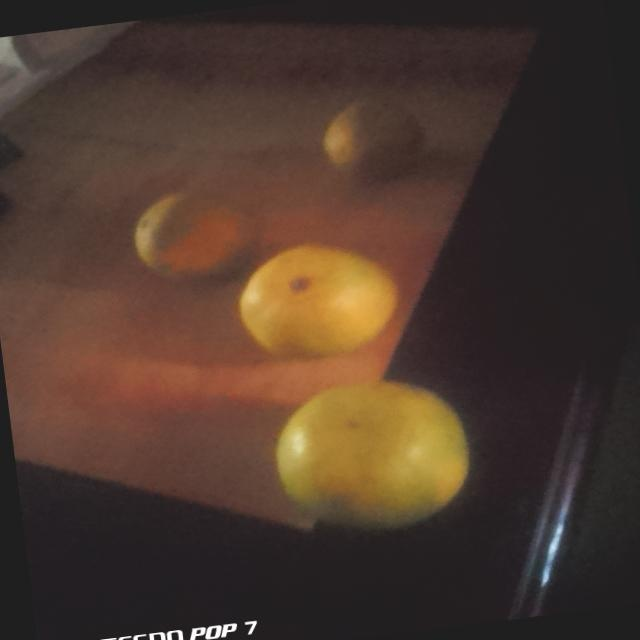agrume: (262, 368, 480, 542), (223, 229, 413, 358), (116, 173, 253, 292), (302, 81, 435, 187)
